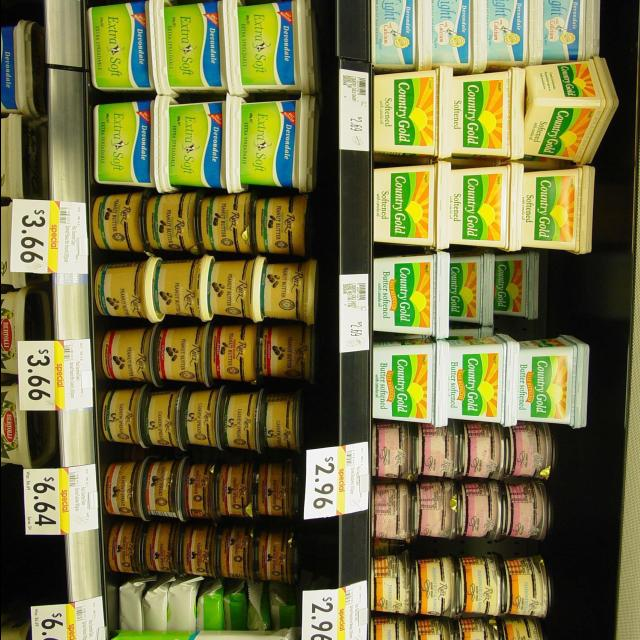empty_space: (535, 262, 613, 338)
